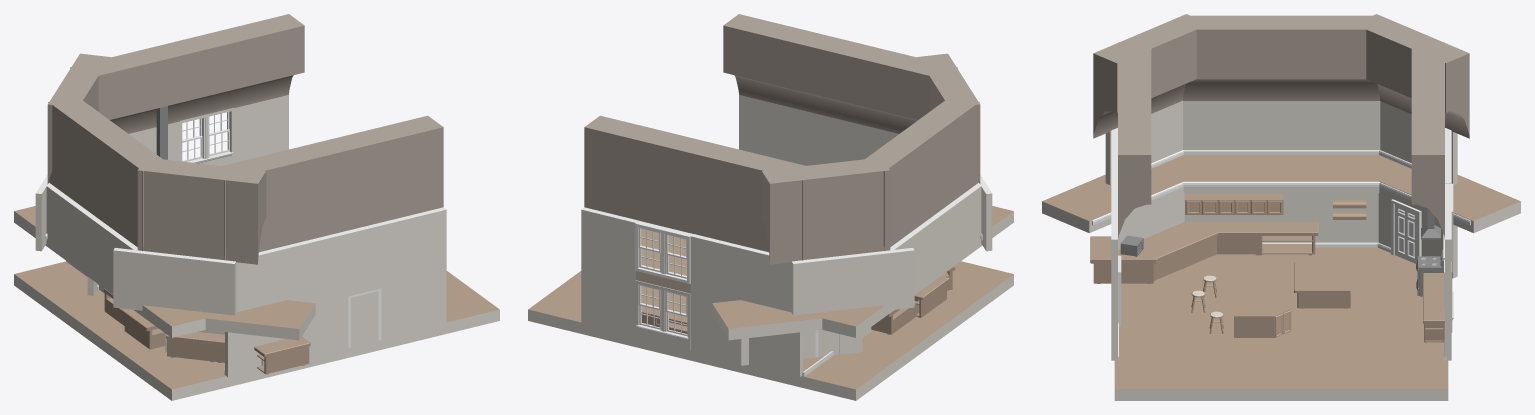
File: kitchen-base-merged-flippedandresized.glb
3 renders of one model, left to right at view 1: azimuth 30°, elevation 25°; view 2: azimuth 150°, elevation 25°; view 3: azimuth 270°, elevation 25°, orthographic. The views are drawn at different scales.
Visible parts, largest first — view 1: object1.007; view 2: object1.007; view 3: object1.007.
Part boxes in pixels (x1,y1,x2,y2): object1.007: [14, 14, 499, 400]; object1.007: [528, 14, 1013, 400]; object1.007: [1042, 14, 1520, 400].
Size of the model in its own units: 12.68 by 7.2 by 14.35.
